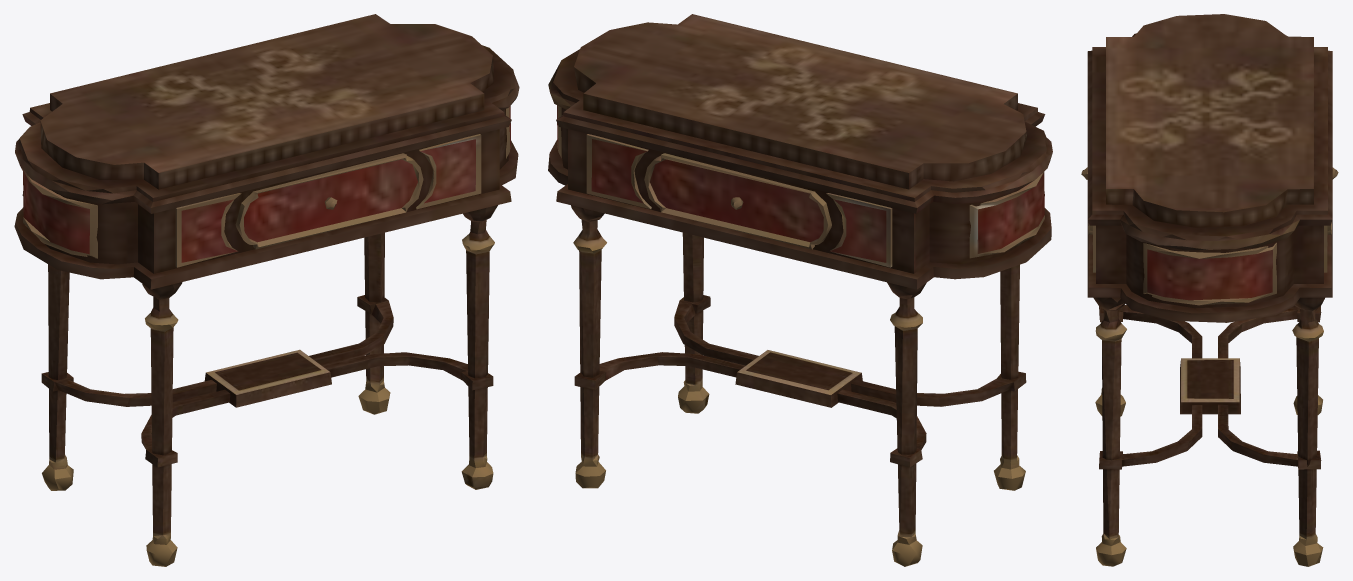
File: table-console.lod1.glb
3 views of the same model, side by side, from view 1: azimuth 30°, elevation 25°; view 2: azimuth 150°, elevation 25°; view 3: azimuth 270°, elevation 25° (orthographic). The views are drawn at different scales.
Visible parts, largest first — view 1: table-console; view 2: table-console; view 3: table-console.
Boxes of the visible parts, box(x1,y1,x2,y2) form: table-console: box(14, 14, 519, 566); table-console: box(548, 14, 1052, 566); table-console: box(1081, 14, 1338, 566).
Size of the model in its own units: 0.9491 by 0.7607 by 0.4701.
3 materials, 3 textured.
